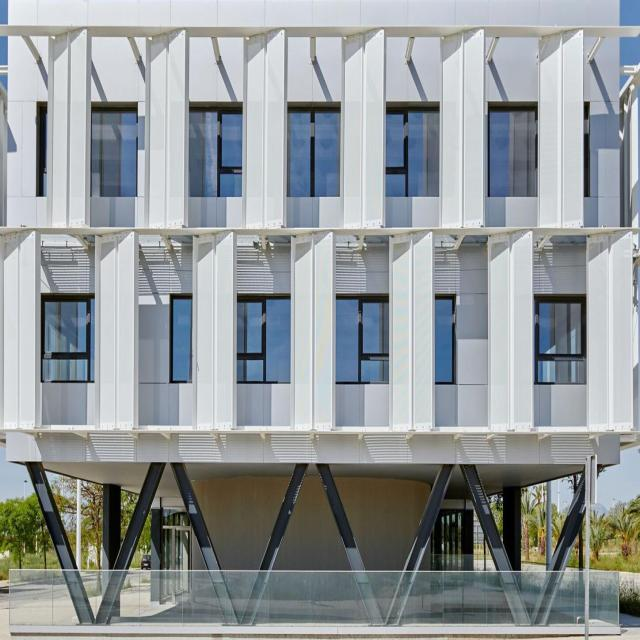door: (161, 523, 192, 569)
railing: (8, 566, 620, 636)
window: (40, 289, 95, 386), (532, 292, 589, 383), (236, 293, 293, 383), (332, 293, 389, 383), (384, 103, 439, 193), (185, 103, 240, 193), (185, 103, 240, 193), (287, 107, 340, 198), (488, 100, 538, 195), (89, 107, 137, 194), (169, 292, 193, 385), (431, 293, 455, 386), (36, 104, 46, 195)
